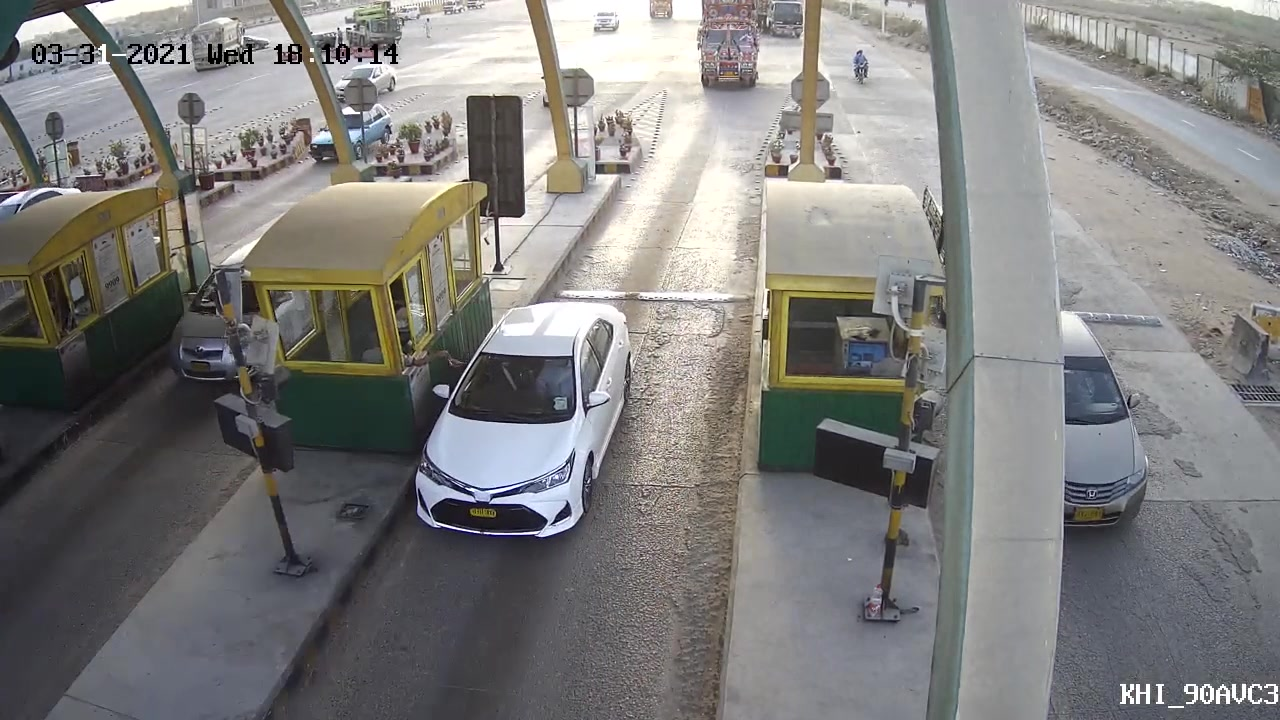F1: (407, 297, 638, 546)
